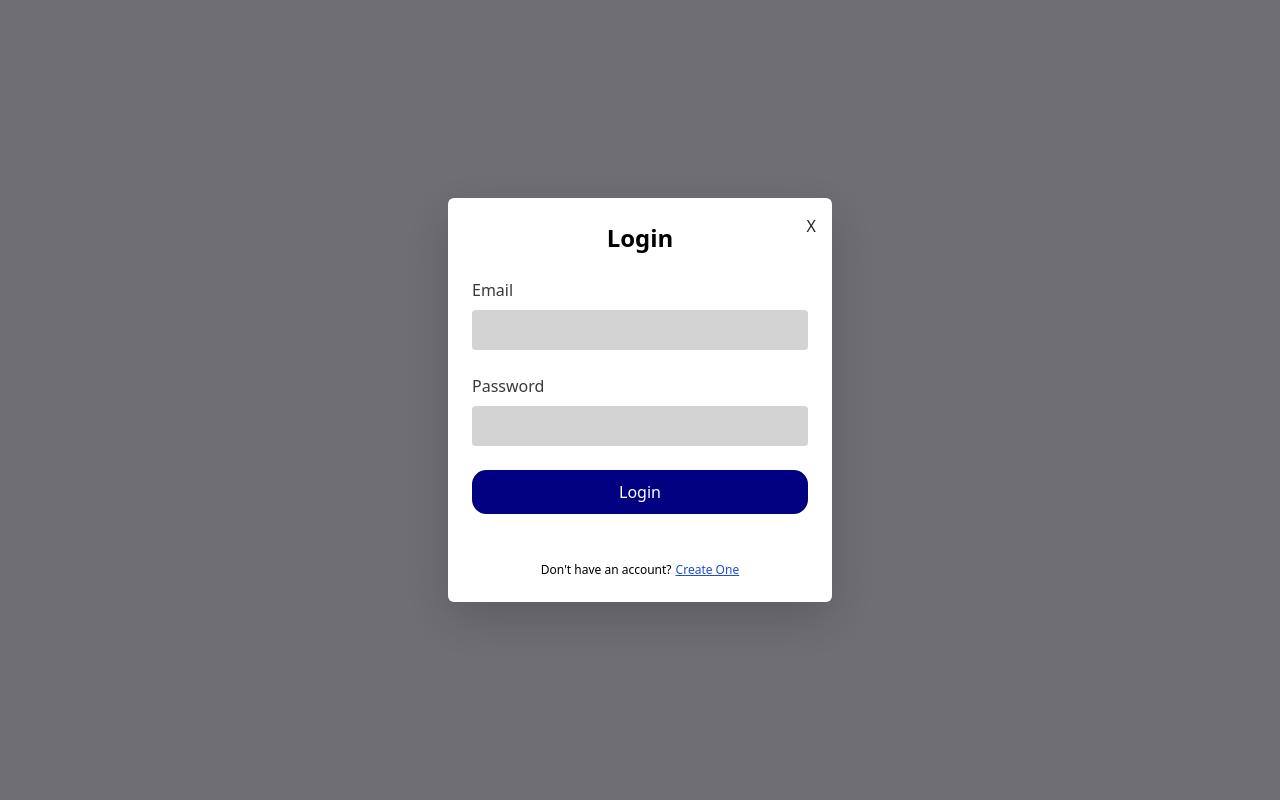
LoginModal › switches to the Create Account form and back
Click the text "Create One": (707, 570) [676,562,739,578]
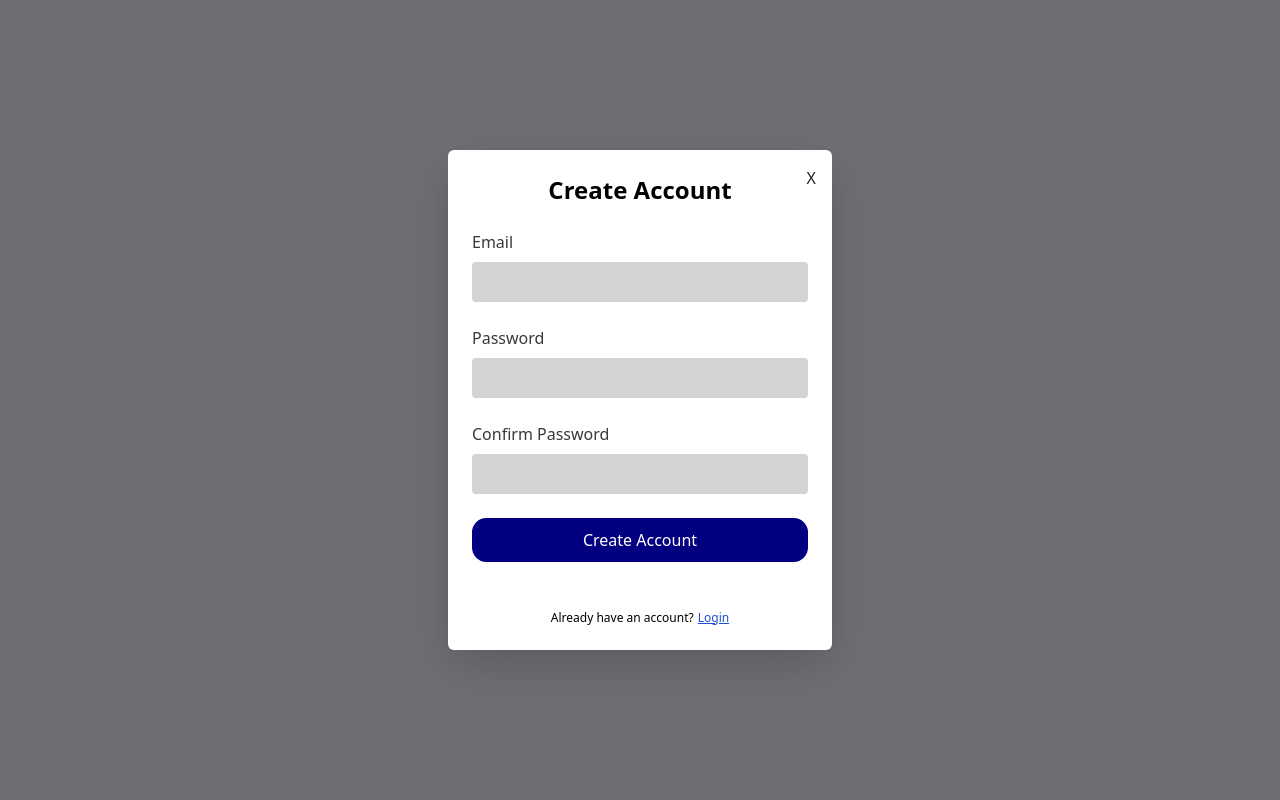
Check: the heading "Create Account" is shown, box [548,173,732,206]
Click the text "Login": (713, 618) [698,610,729,626]
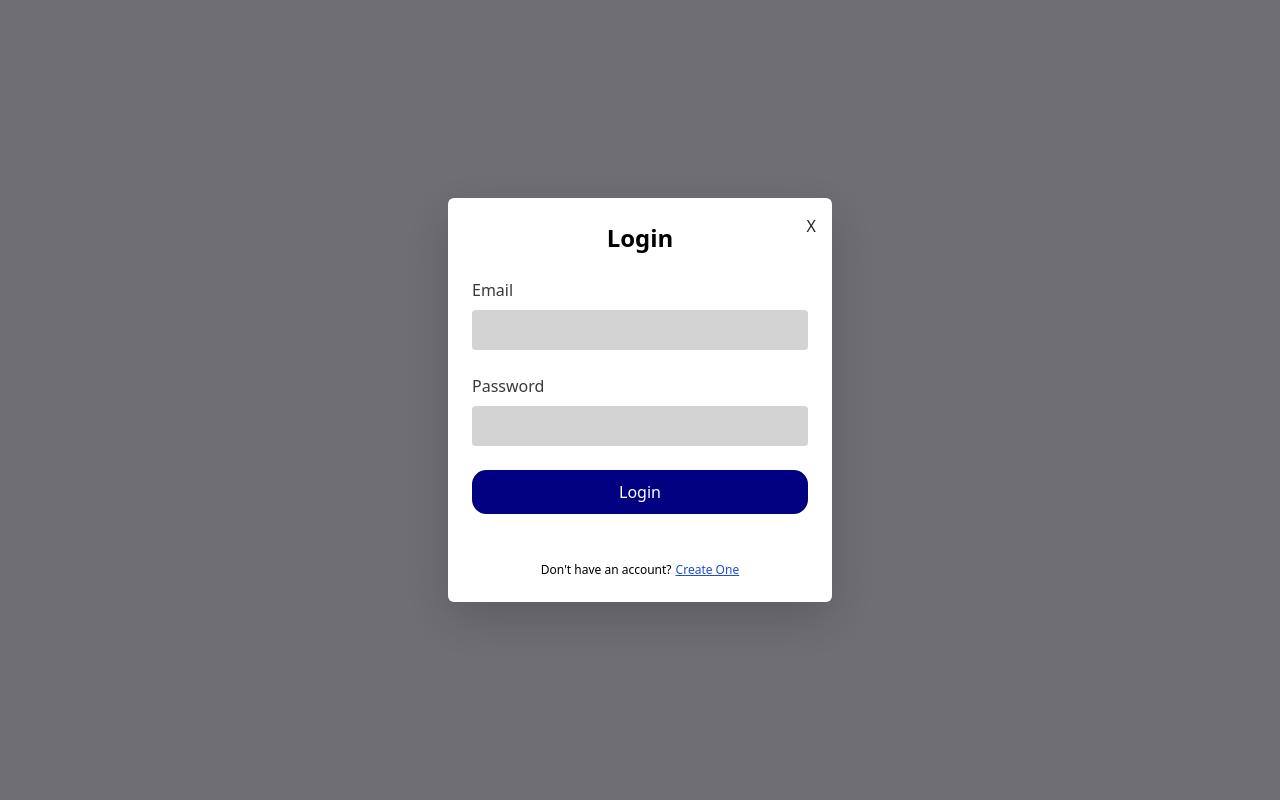
Check: the heading "Login" is shown, box [607,221,673,254]
